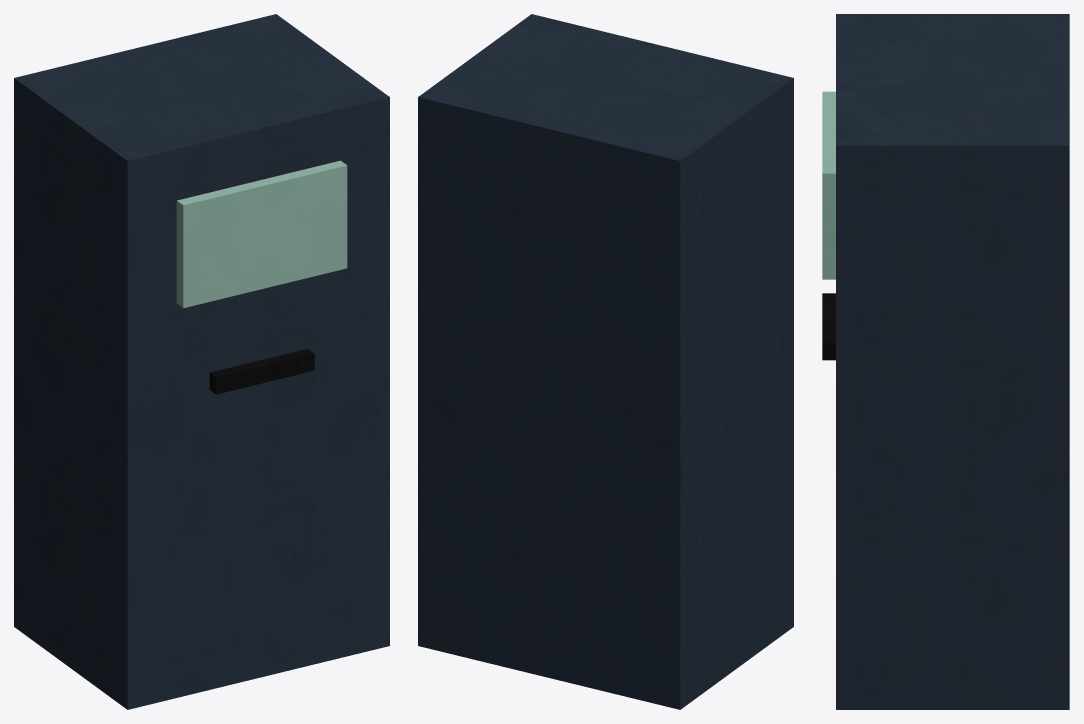
Rendered from ticket_machine_01.glb.
3 renders of one model, left to right at view 1: azimuth 30°, elevation 25°; view 2: azimuth 150°, elevation 25°; view 3: azimuth 270°, elevation 25°, orthographic. The views are drawn at different scales.
Visible parts, largest first — view 1: ticket_machine_01; view 2: ticket_machine_01; view 3: ticket_machine_01.
Part boxes in pixels (x1,y1,x2,y2): ticket_machine_01: [14, 14, 389, 709]; ticket_machine_01: [418, 14, 793, 709]; ticket_machine_01: [822, 14, 1069, 709].
Size of the model in its own units: 0.8 by 1.6 by 0.635.
Materials: 3 (3 with a texture image).
